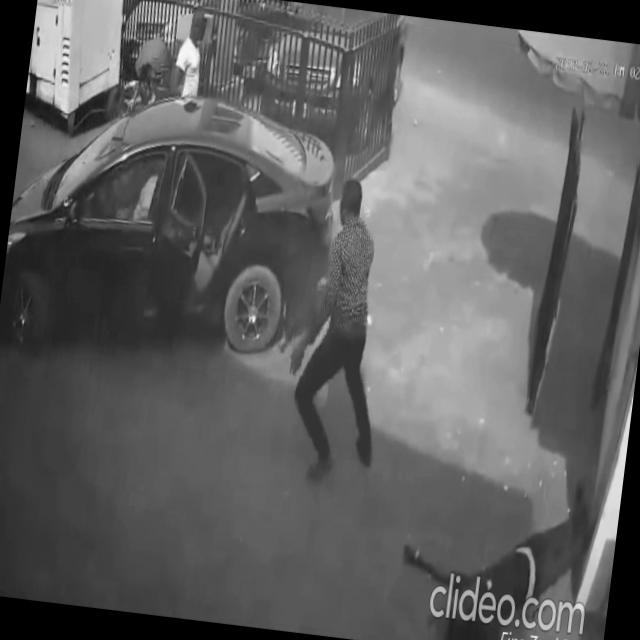gun: (278, 262, 332, 360)
person: (390, 463, 594, 640), (164, 1, 212, 107)
person with a gun: (264, 171, 408, 491)
